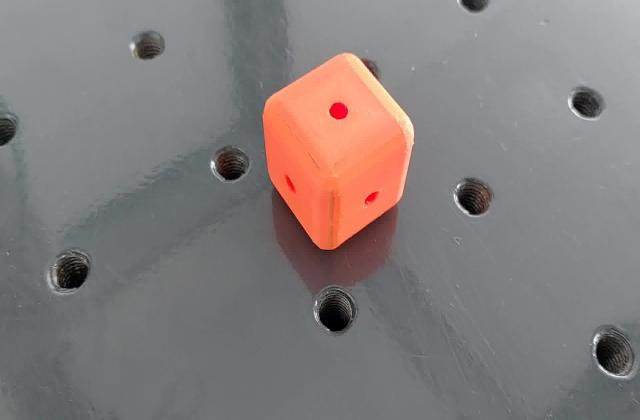cube: (257, 48, 419, 258)
